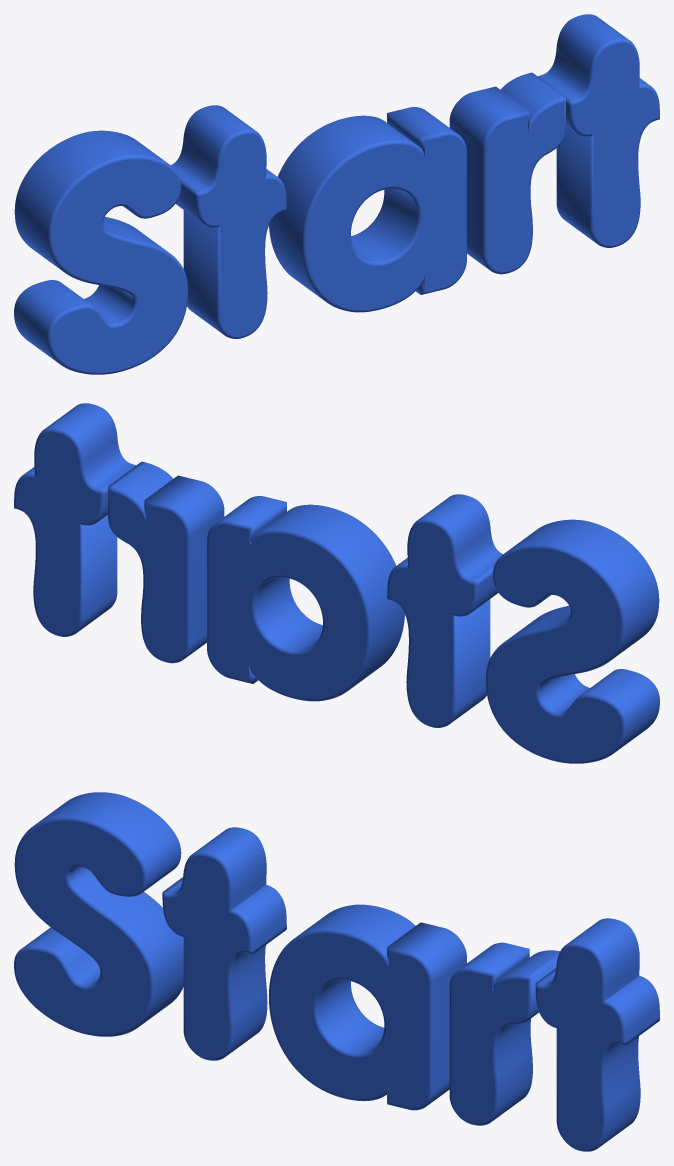
File: StartTextModel.885c7470.glb
3 views of the same model, one above another, from view 1: azimuth 30°, elevation 25°; view 2: azimuth 150°, elevation 25°; view 3: azimuth 330°, elevation 25° (orthographic).
Visible parts, largest first — view 1: ResetTextModel; view 2: ResetTextModel; view 3: ResetTextModel.
Boxes of the visible parts, bbox=[...] form: ResetTextModel: bbox=[14, 14, 659, 374]; ResetTextModel: bbox=[14, 403, 659, 763]; ResetTextModel: bbox=[14, 792, 659, 1151].
Size of the model in its own units: 2.16 by 0.7275 by 0.22.
